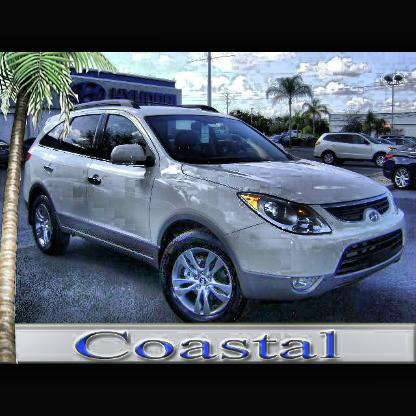Hyundai Veracruz SUV 2012: (26, 99, 408, 327)
